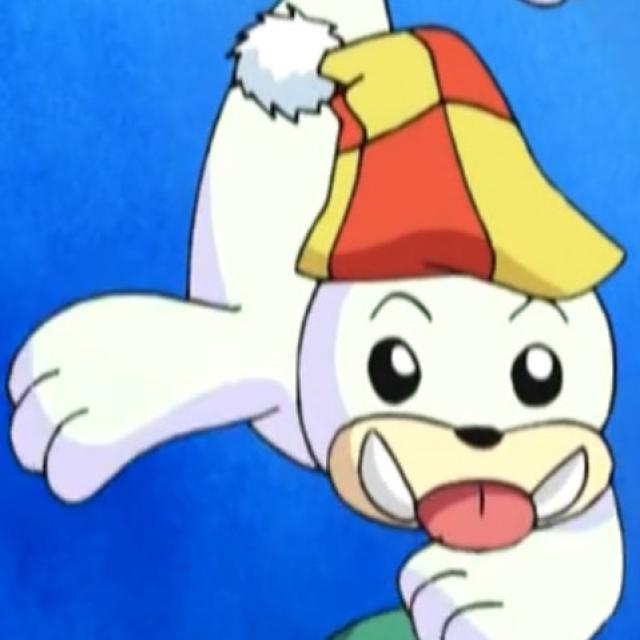Seel: (177, 0, 640, 559)
